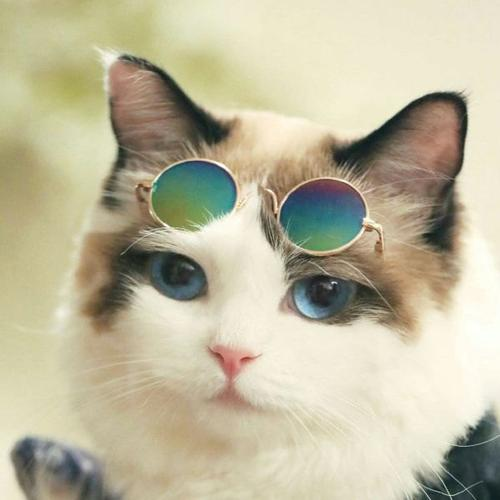cat: (65, 43, 480, 431)
